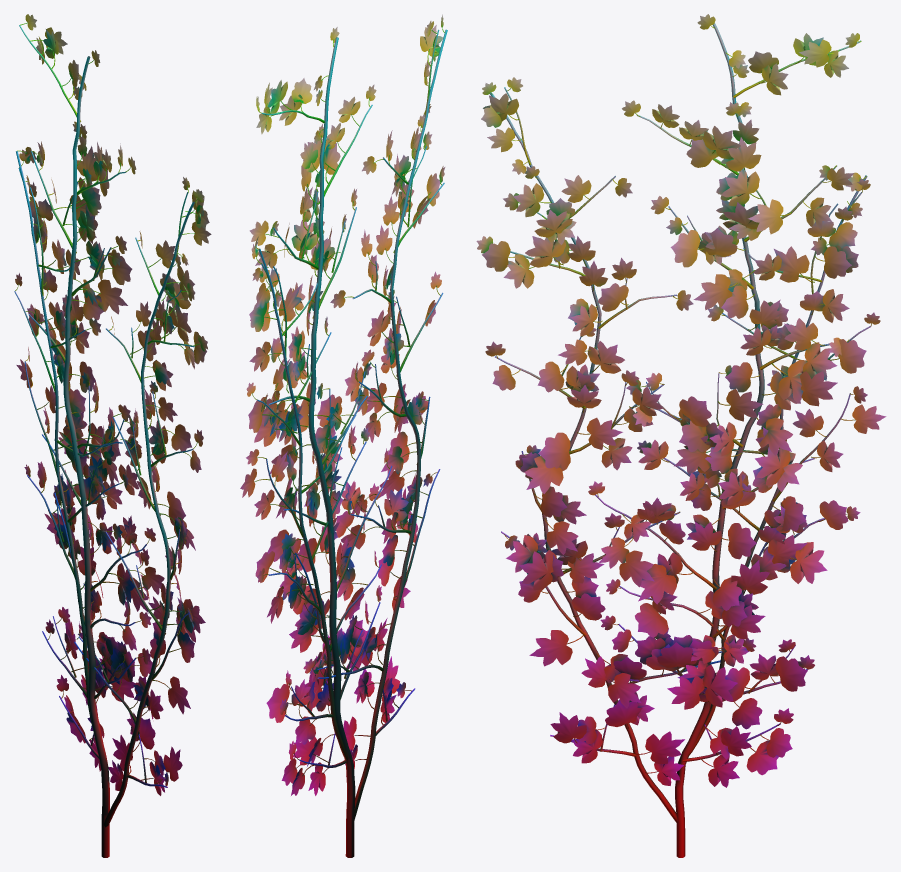
The model's file is SM_Ivy_WallPatch_Prototype.fbx.
3 renders of one model, left to right at view 1: azimuth 30°, elevation 25°; view 2: azimuth 150°, elevation 25°; view 3: azimuth 270°, elevation 25°, orthographic. The views are drawn at different scales.
Visible parts, largest first — view 1: SM_Ivy_WallPatch_Prototype; view 2: SM_Ivy_WallPatch_Prototype; view 3: SM_Ivy_WallPatch_Prototype.
Part boxes in pixels (x1=…): SM_Ivy_WallPatch_Prototype: x1=14, y1=14, x2=211, y2=857; SM_Ivy_WallPatch_Prototype: x1=240, y1=14, x2=447, y2=857; SM_Ivy_WallPatch_Prototype: x1=476, y1=14, x2=886, y2=857.
Size of the model in its own units: 7.71 by 80.63 by 183.
